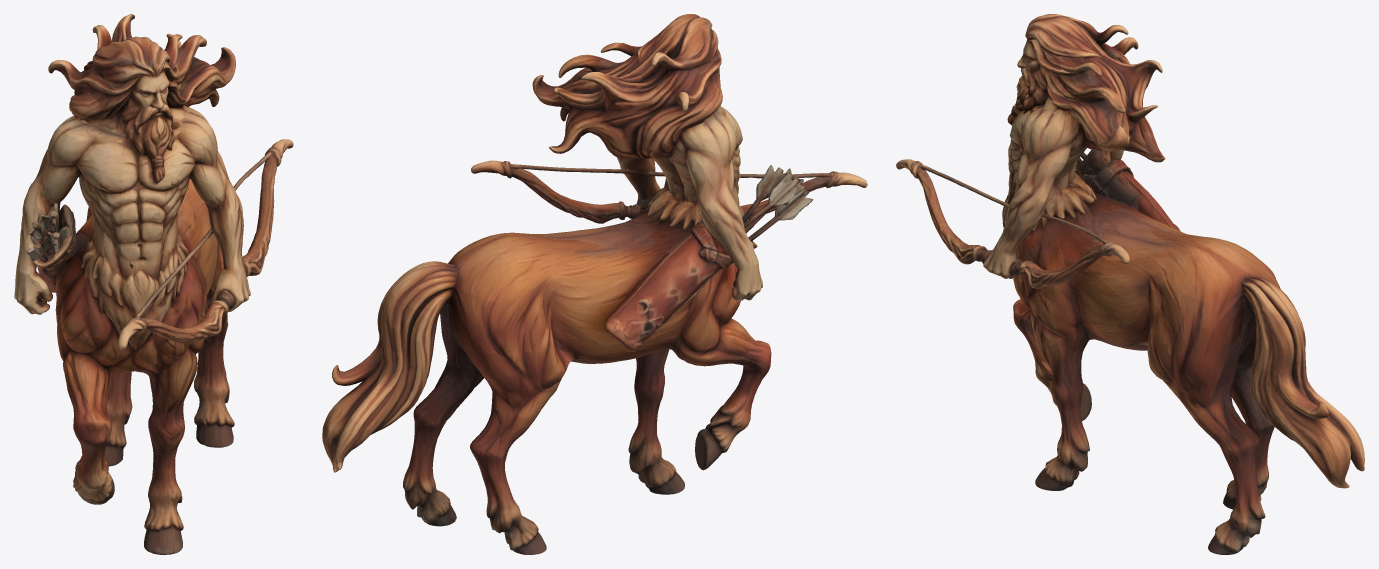
File: centaur__bearded-archer.glb
3 renders of one model, left to right at view 1: azimuth 30°, elevation 25°; view 2: azimuth 150°, elevation 25°; view 3: azimuth 270°, elevation 25°, orthographic. The views are drawn at different scales.
Parts seen in each view (by area): view 1: Mesh_0; view 2: Mesh_0; view 3: Mesh_0.
Boxes of the visible parts, box(x1,y1,x2,y2) form: Mesh_0: box(14, 14, 293, 554); Mesh_0: box(322, 14, 867, 554); Mesh_0: box(896, 14, 1364, 554).
Size of the model in its own units: 1.47 by 2 by 1.86.
1 material, 1 textured.
